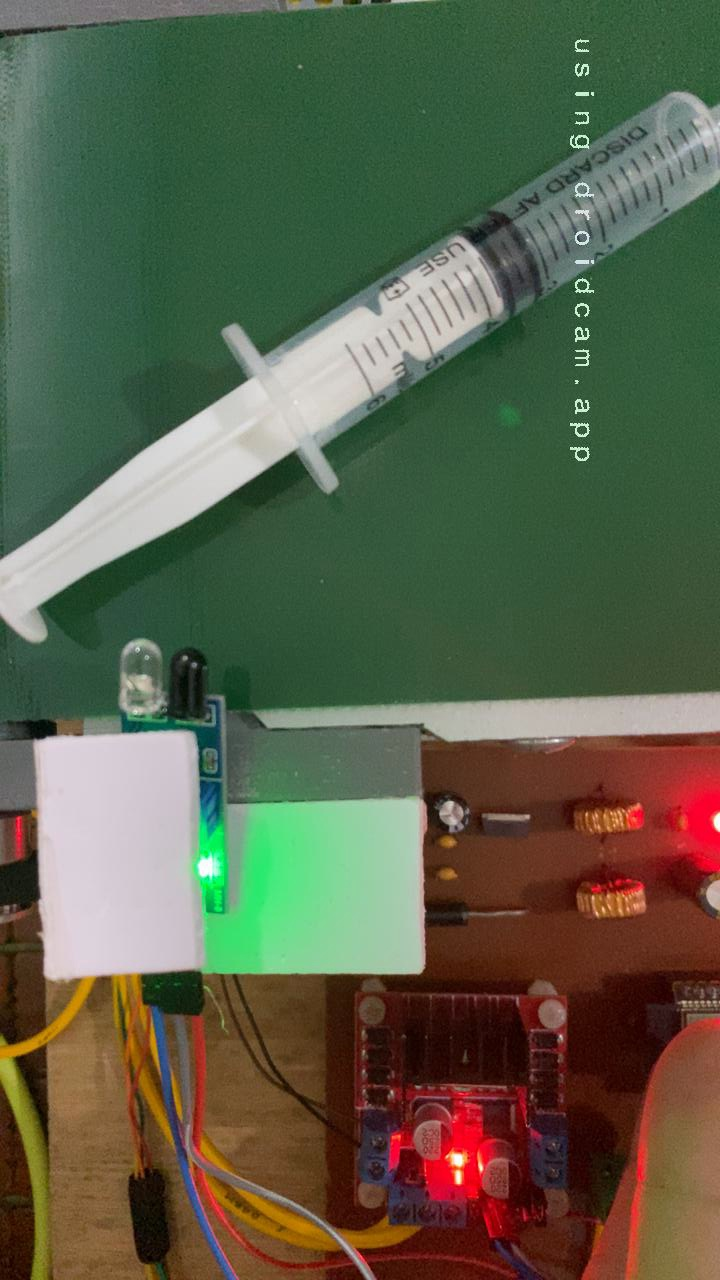syringe: (0, 85, 720, 651)
